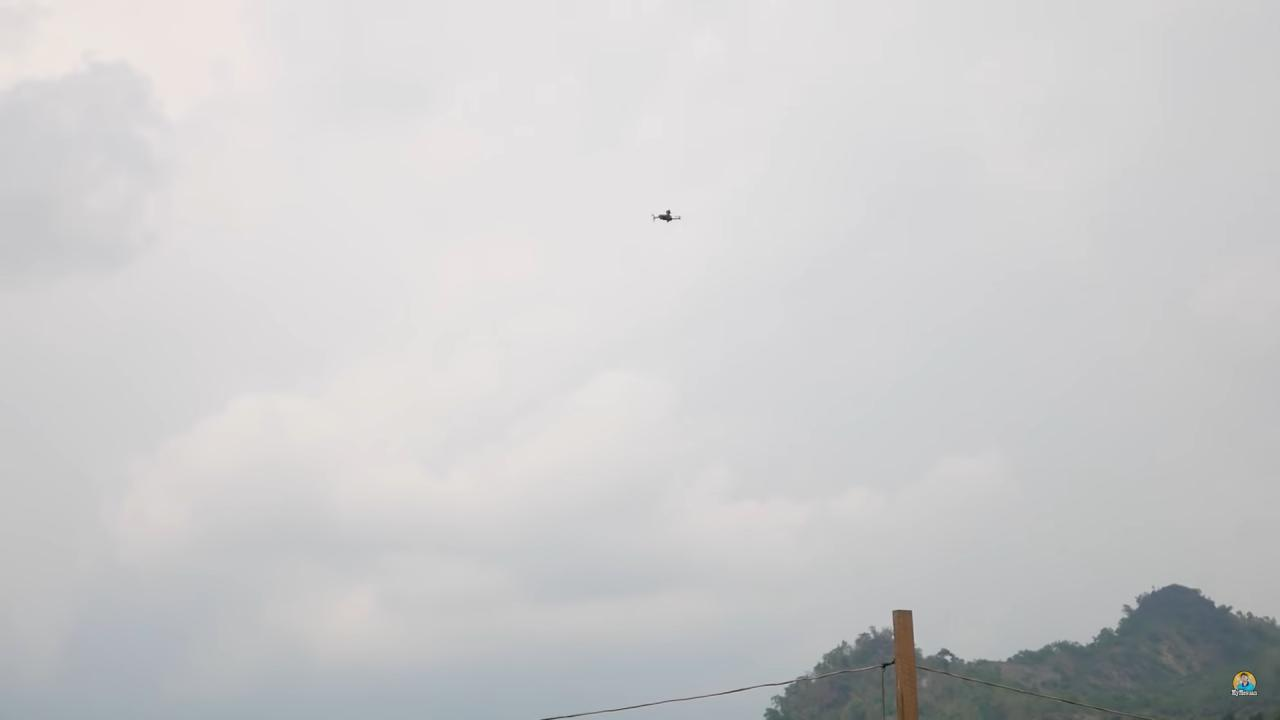Drone: (639, 196, 691, 234)
